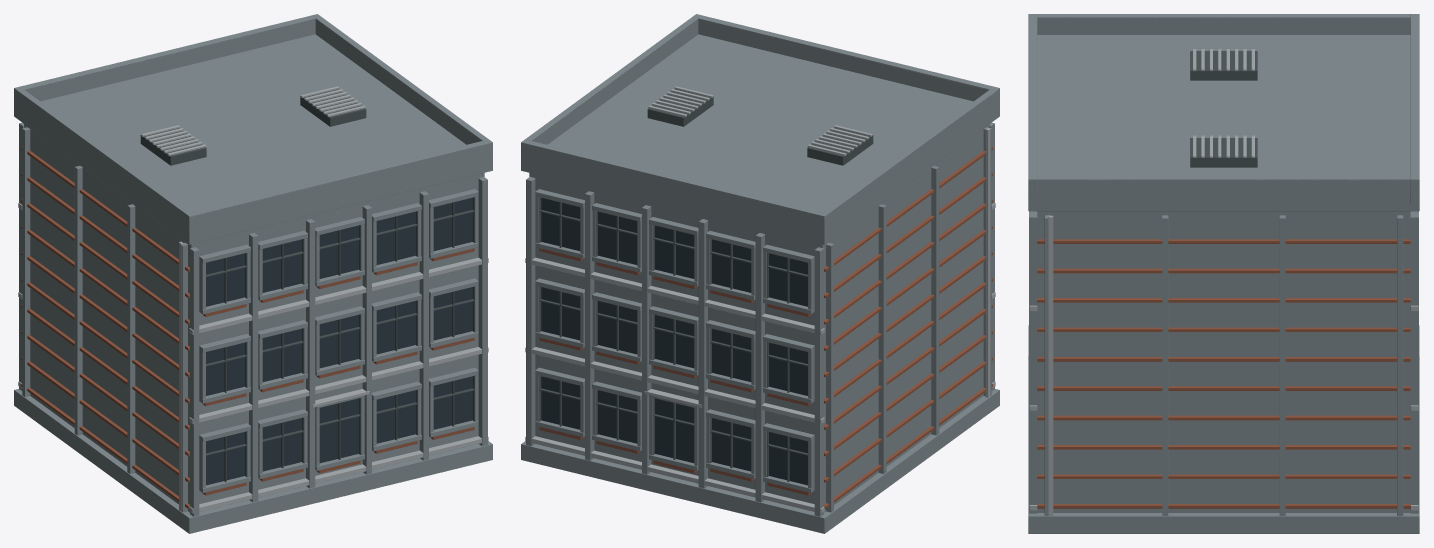
Rendered from SM_StreetBlock_02.fbx.
3 views of the same model, side by side, from view 1: azimuth 30°, elevation 25°; view 2: azimuth 150°, elevation 25°; view 3: azimuth 270°, elevation 25° (orthographic). The views are drawn at different scales.
Parts seen in each view (by area): view 1: SM_StreetBlock_02; view 2: SM_StreetBlock_02; view 3: SM_StreetBlock_02.
Boxes of the visible parts, x1,y1,x2,y2 form: SM_StreetBlock_02: (14, 14, 492, 533); SM_StreetBlock_02: (521, 14, 999, 533); SM_StreetBlock_02: (1028, 14, 1419, 533).
Bounding box in the file's own units: 100 × 100 × 100.
